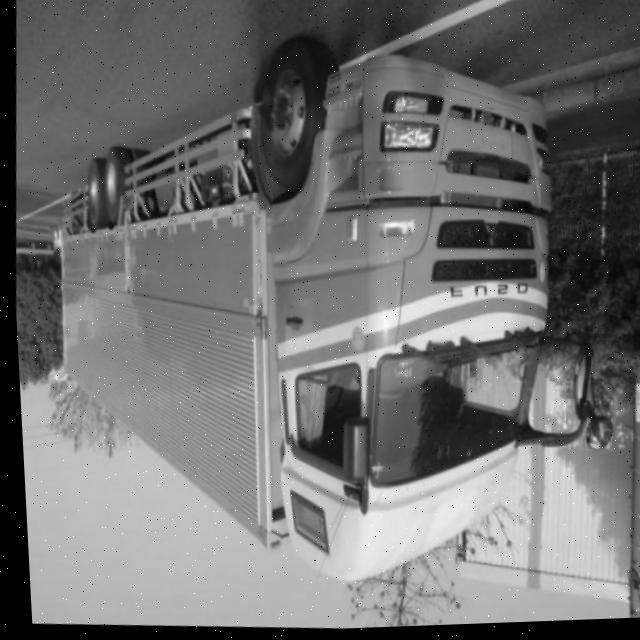truck: (209, 23, 619, 610)
